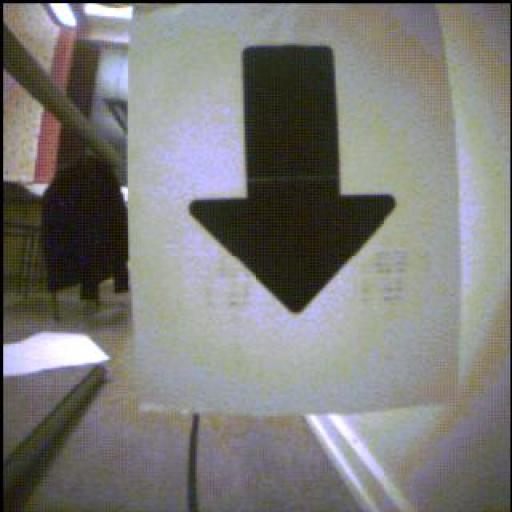Arrow: (192, 46, 397, 313)
